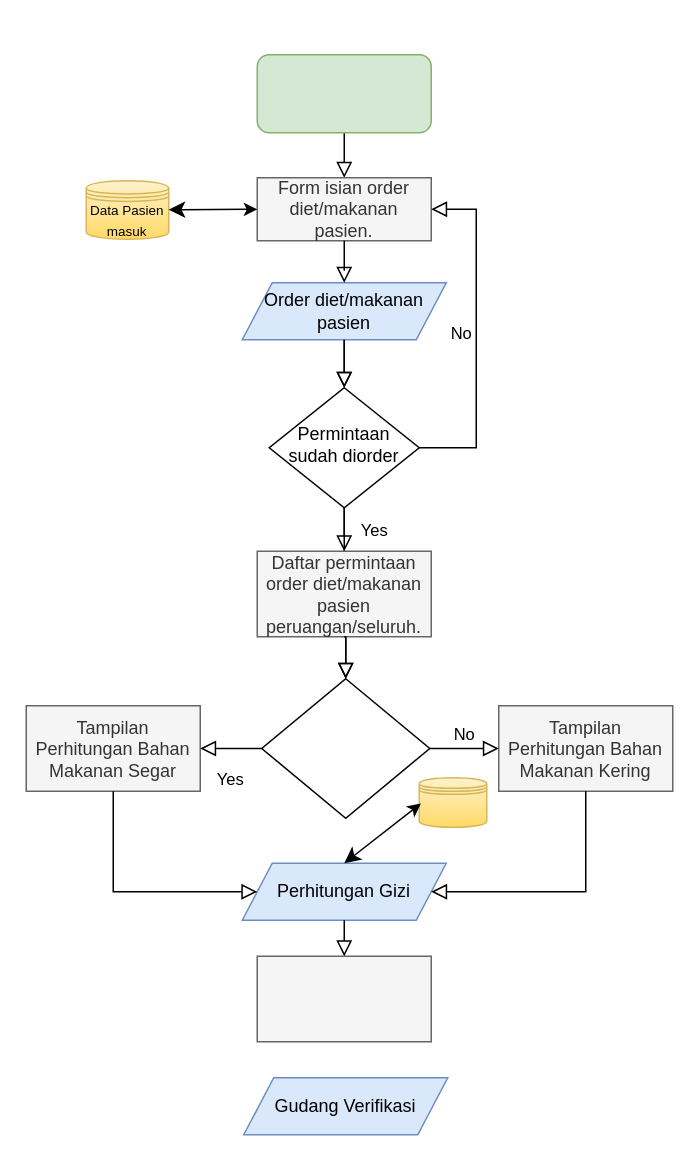
Image size: 699x1161. Some labels were removed from this diagram. The centre of each missing label's shape, as x and y in pixels:
Bahan Makanan Segar: pixel 345 747
Daftar permintaan bahan ke gudang.: pixel 343 998
Data master: pixel 452 801
Mulai Aplikasi E-Gizi: pixel 343 93
